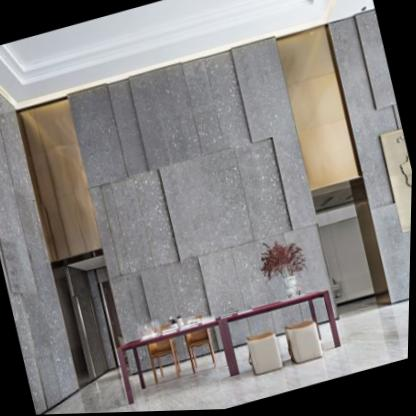Wall Panel: (10, 9, 416, 391)
